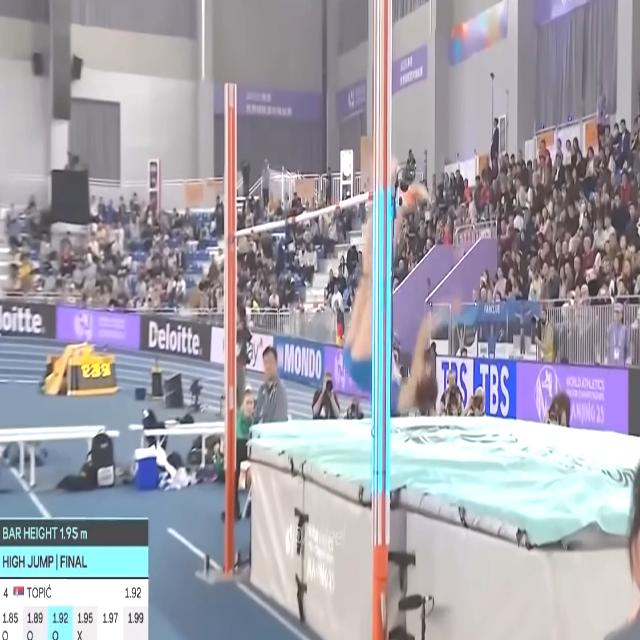land: (342, 157, 464, 416)
